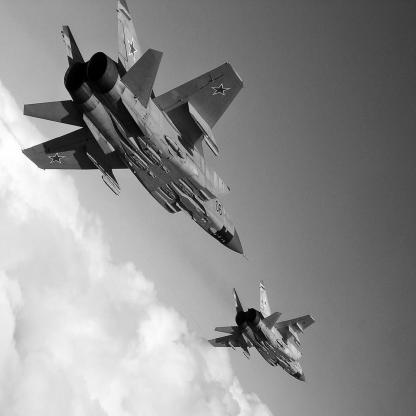Mig31: (21, 2, 250, 263), (209, 281, 317, 386)
